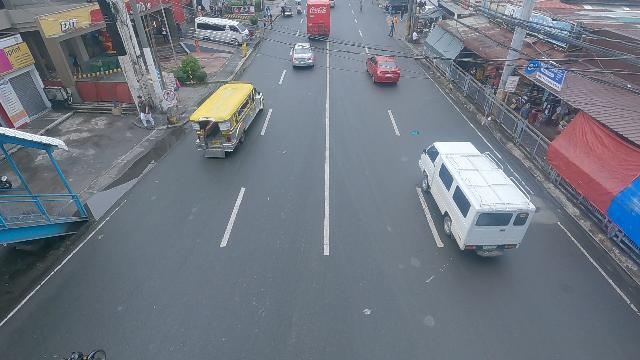car: (417, 140, 536, 257), (365, 54, 401, 87), (290, 42, 315, 69)
jeepney: (190, 79, 265, 157)
truck: (305, 0, 331, 38)
van: (195, 16, 251, 47)
